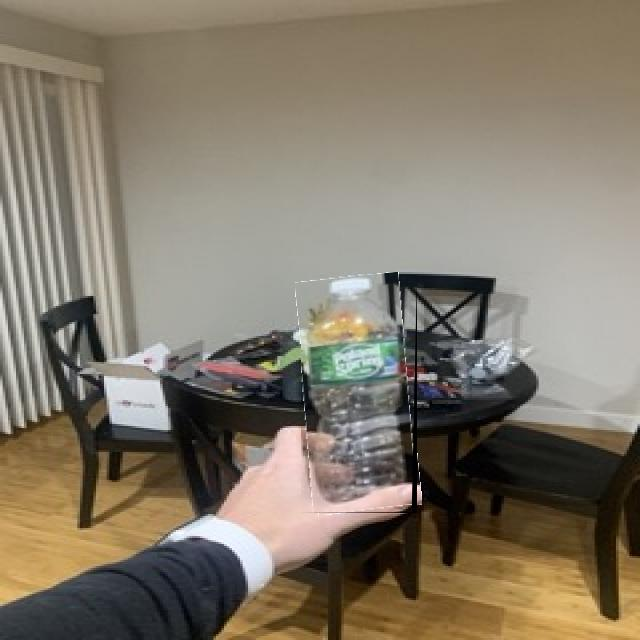water_bottle: (301, 274, 417, 513)
